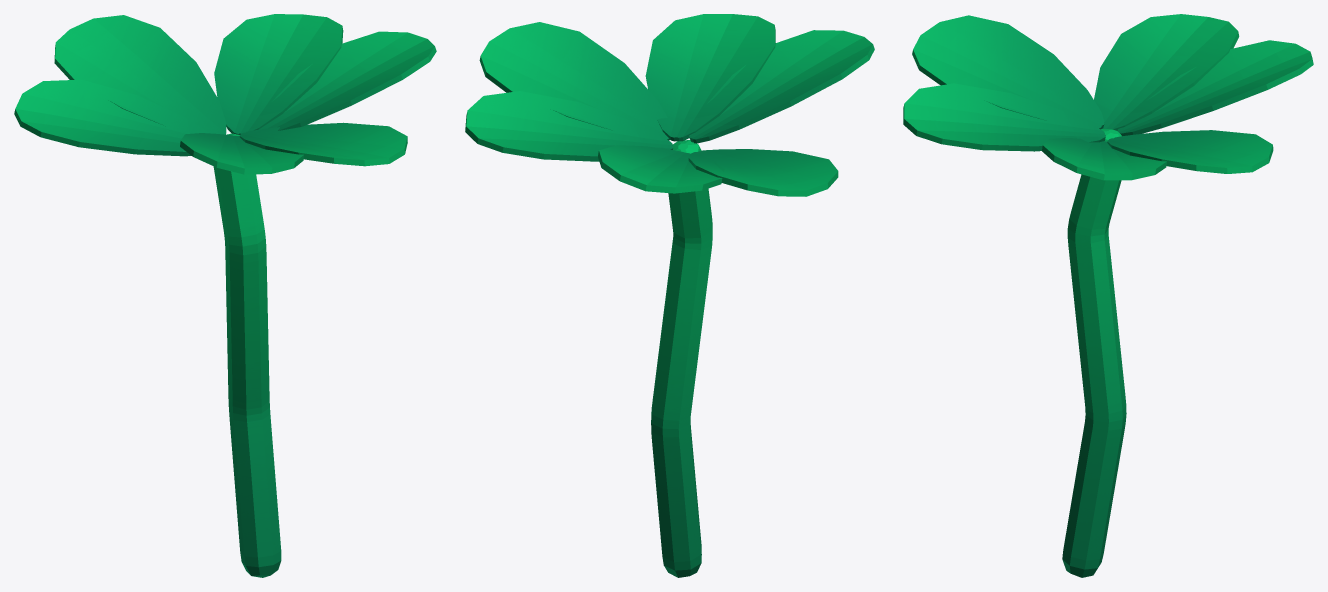
Rendered from Trevo3Folhas.fbx.
3 views of the same model, side by side, from view 1: azimuth 30°, elevation 25°; view 2: azimuth 150°, elevation 25°; view 3: azimuth 270°, elevation 25° (orthographic). The views are drawn at different scales.
Parts seen in each view (by area): view 1: Circle.031; view 2: Circle.031; view 3: Circle.031.
Boxes of the visible parts, box(x1,y1,x2,y2) form: Circle.031: box(14, 14, 436, 577); Circle.031: box(465, 14, 874, 577); Circle.031: box(903, 14, 1313, 577).
Size of the model in its own units: 23.23 by 29.84 by 22.18.
Materials: 1 (1 with a texture image).
